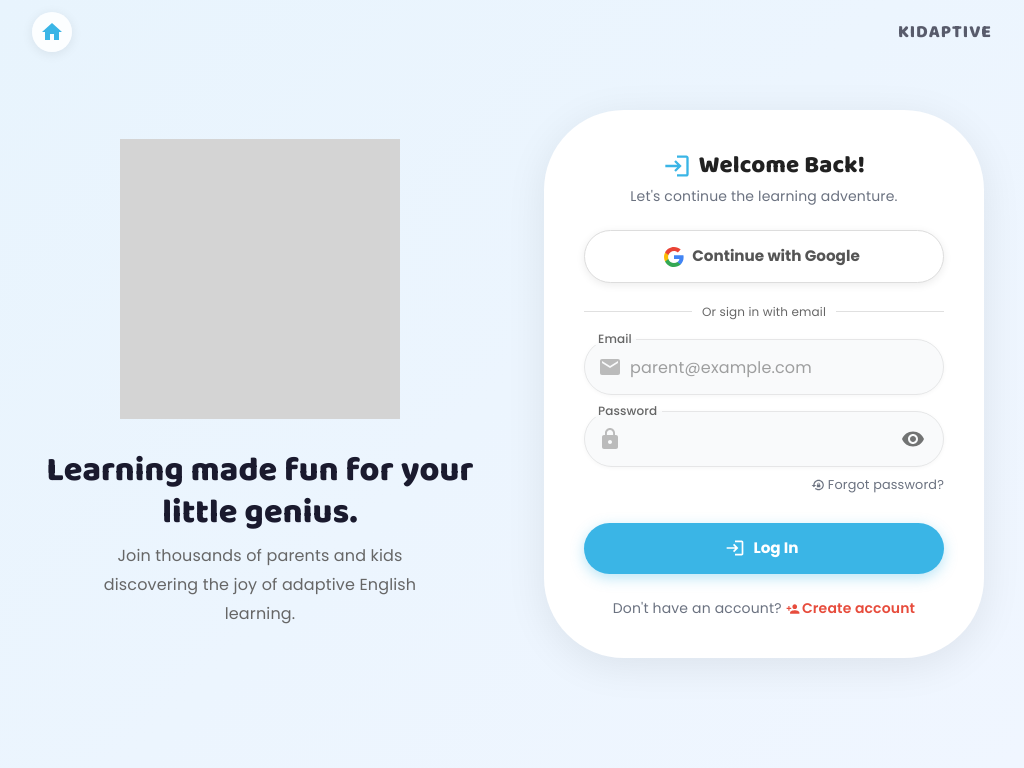
Test case: ParentLoginPage › shows fallback error message when API returns no message
Type "parent@test.com" into the field labelled "Email" at (787, 367), box 630,339 -> 944,395
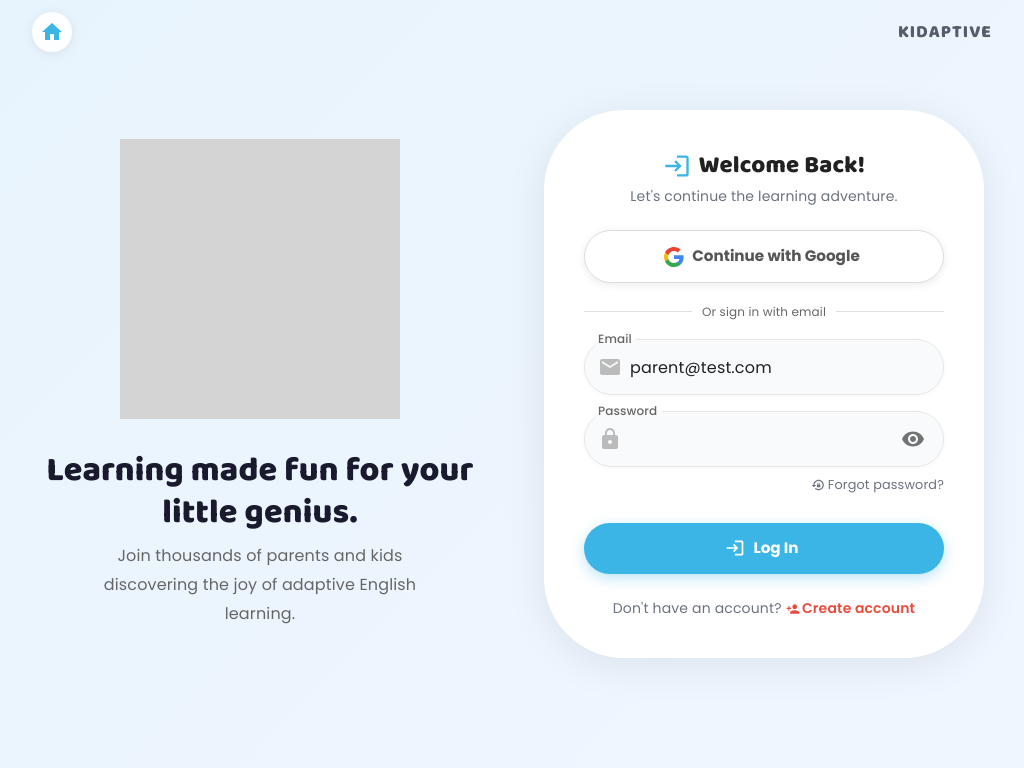
Type "Password123!" into the password field labelled "Password" at (759, 439), box 630,411 -> 888,467
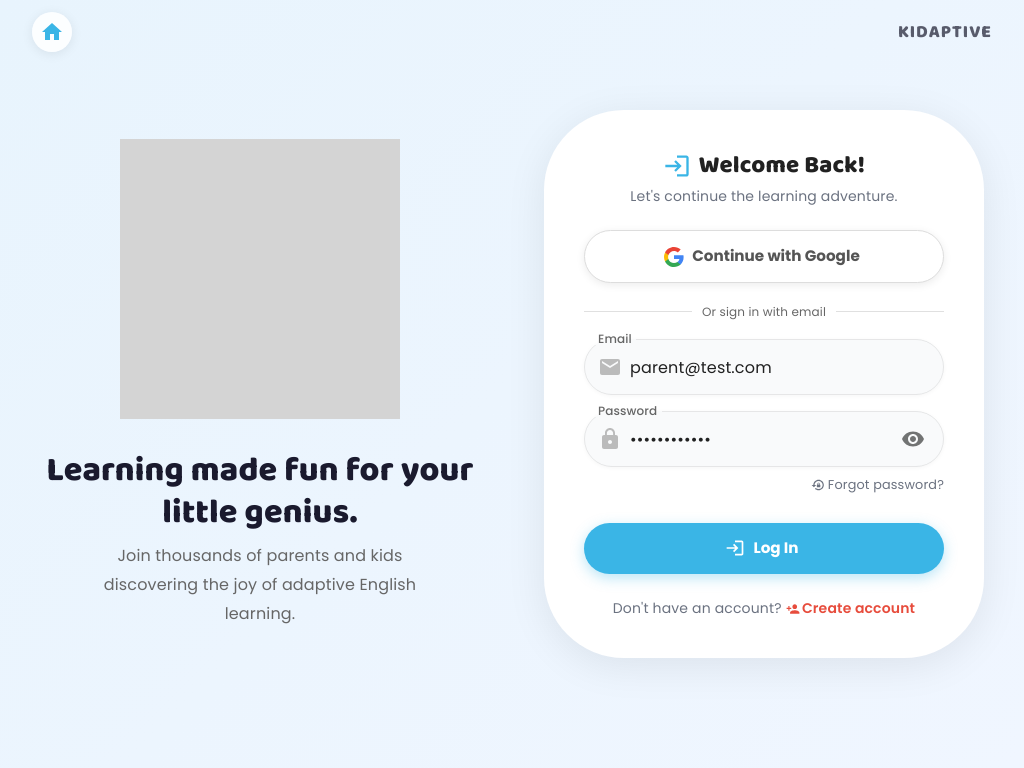
Click the button "Log In" at (764, 548), box 584,523 -> 944,574
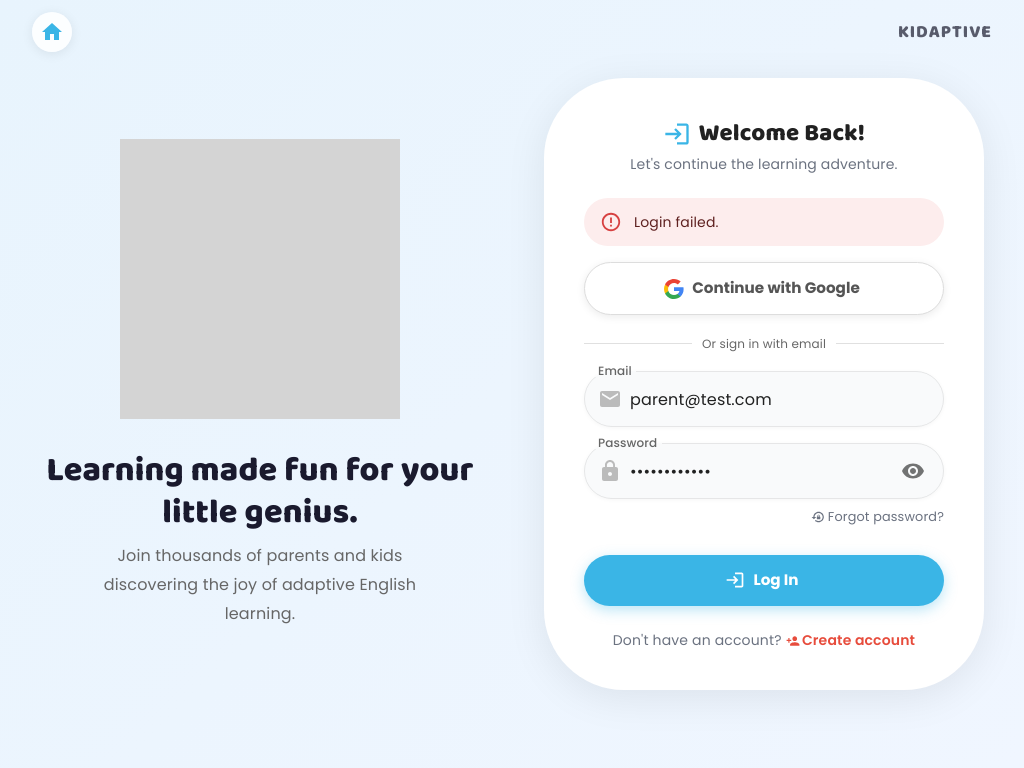
Expected: the text "Login failed." is shown, 634,212 -> 719,232
